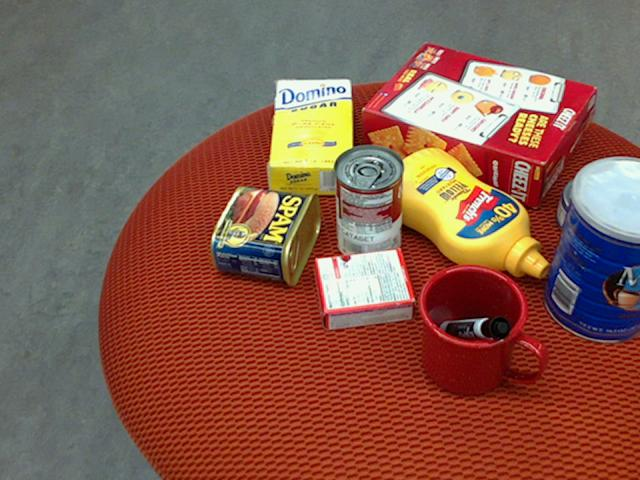cracker_box: (361, 41, 594, 205)
gelatin_box: (310, 250, 413, 331)
large_marker: (439, 315, 510, 339)
master_chef_can: (542, 155, 639, 342)
mug: (416, 264, 543, 396)
mustard_bottle: (375, 147, 548, 278)
potted_meat_can: (209, 186, 320, 286)
sugar_box: (268, 77, 354, 197)
tomato_soup_can: (331, 143, 402, 263)
tuna_fish_can: (555, 171, 639, 248)
